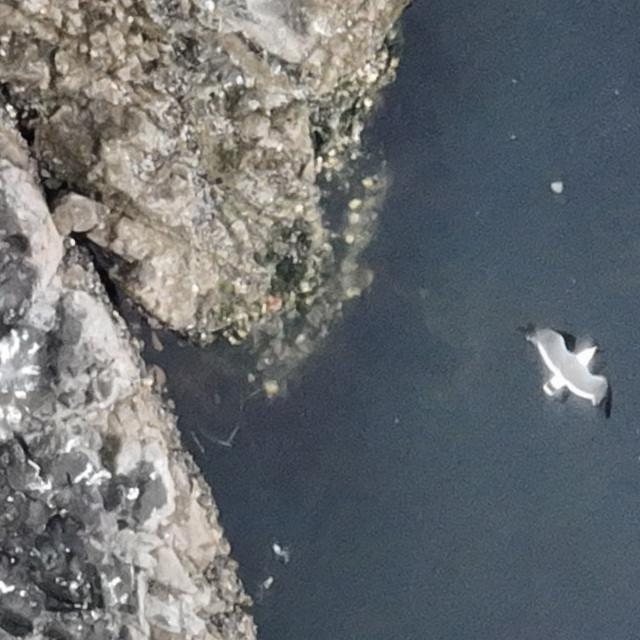F: (539, 334, 617, 406)
